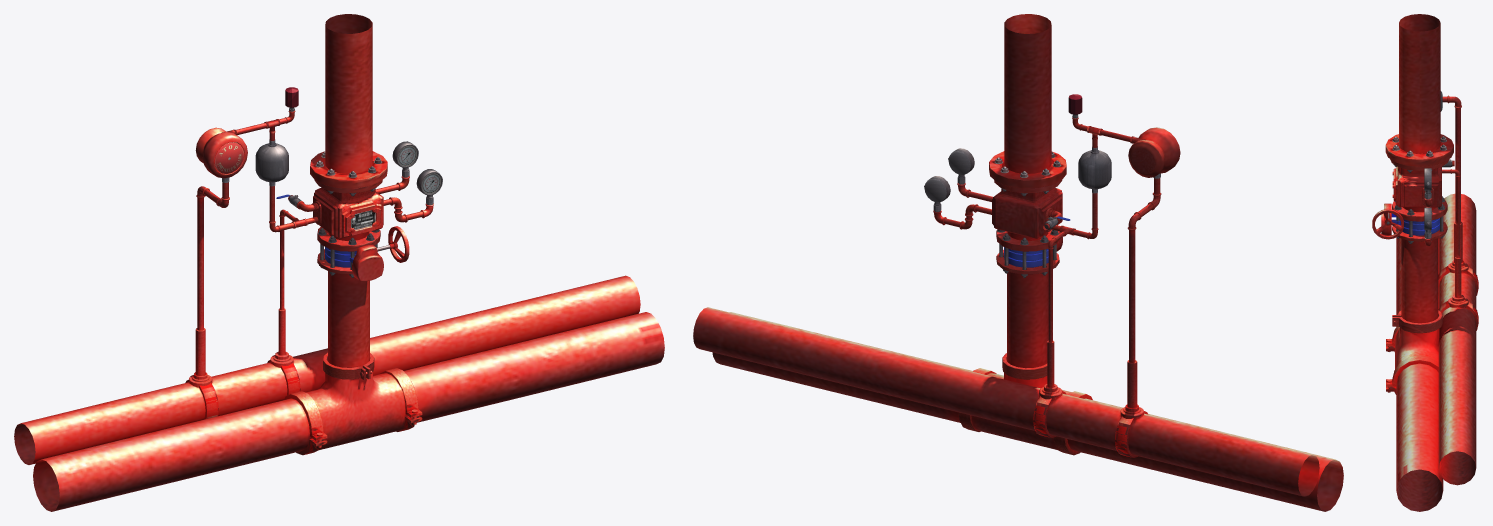
File: zidongWater.FBX
3 views of the same model, side by side, from view 1: azimuth 30°, elevation 25°; view 2: azimuth 150°, elevation 25°; view 3: azimuth 270°, elevation 25° (orthographic). The views are drawn at different scales.
Visible parts, largest first — view 1: Cylinder006, Object004, Capsule002; view 2: Cylinder006, Object004, Capsule002; view 3: Cylinder006, Object004, Capsule002.
Boxes of the visible parts, x1,y1,x2,y2 form: Cylinder006: (14, 14, 664, 511); Object004: (196, 110, 423, 380); Capsule002: (222, 87, 442, 277); Cylinder006: (693, 14, 1343, 511); Object004: (943, 117, 1161, 379); Capsule002: (924, 94, 1160, 277); Cylinder006: (1372, 14, 1478, 511); Object004: (1390, 95, 1461, 333); Capsule002: (1386, 91, 1452, 243).
Size of the model in its own units: 130 by 85.51 by 22.7.
Materials: 3 (3 with a texture image).
